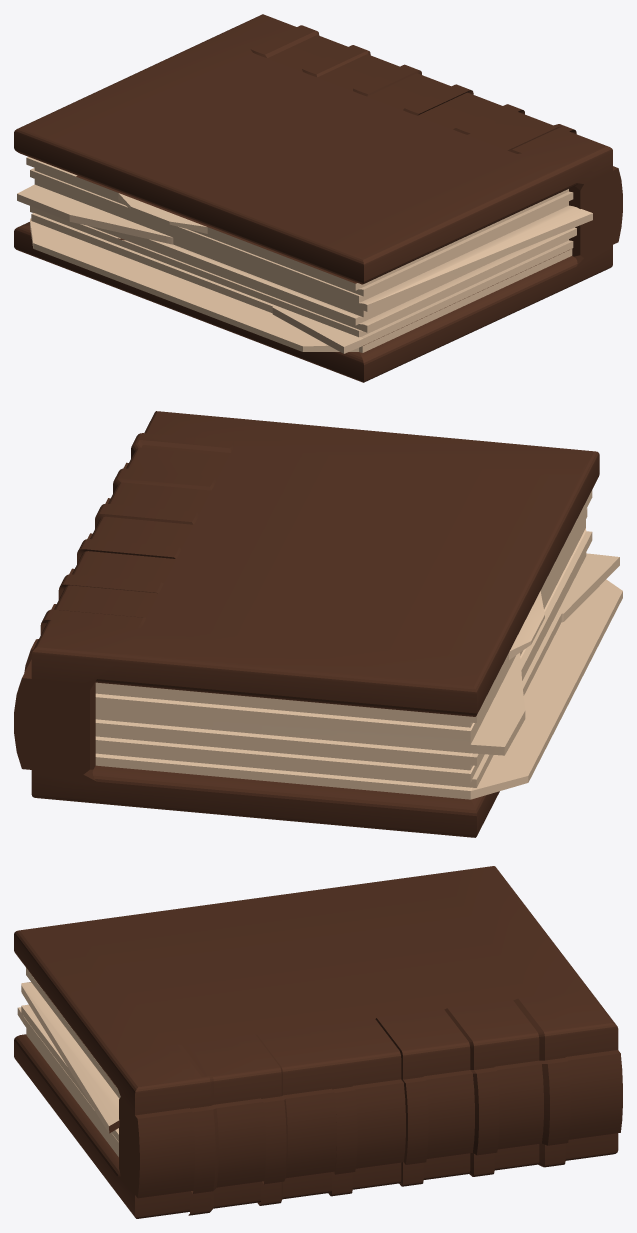
File: Tome2.fbx
3 renders of one model, top to bottom at view 1: azimuth 30°, elevation 25°; view 2: azimuth 150°, elevation 25°; view 3: azimuth 270°, elevation 25°, orthographic. The views are drawn at different scales.
Parts seen in each view (by area): view 1: Tome2; view 2: Tome2; view 3: Tome2.
Part boxes in pixels (bbox=[...]): Tome2: bbox=[14, 14, 622, 382]; Tome2: bbox=[14, 411, 622, 837]; Tome2: bbox=[14, 866, 622, 1218].
Size of the model in its own units: 39.61 by 10.58 by 42.9.
